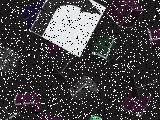Right: (30, 0, 106, 57)
